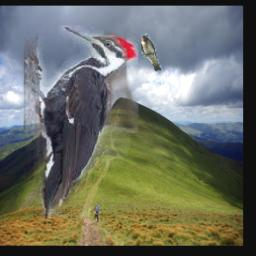Swallow: (141, 34, 163, 72)
Woodpecker: (24, 25, 138, 218)
